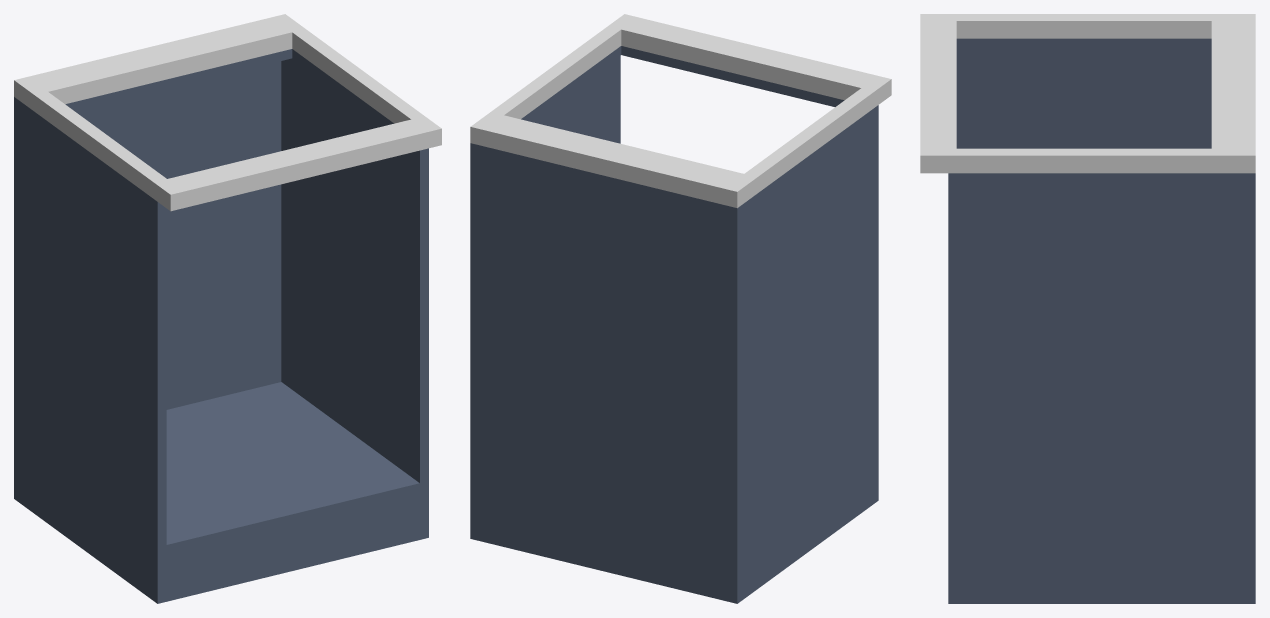
Rendered from Kitchen1_C4_05.fbx.
3 renders of one model, left to right at view 1: azimuth 30°, elevation 25°; view 2: azimuth 150°, elevation 25°; view 3: azimuth 270°, elevation 25°, orthographic. The views are drawn at different scales.
Parts seen in each view (by area): view 1: Kitchen1_C4_05; view 2: Kitchen1_C4_05; view 3: Kitchen1_C4_05.
Boxes of the visible parts, x1,y1,x2,y2 form: Kitchen1_C4_05: [14, 14, 441, 603]; Kitchen1_C4_05: [470, 14, 891, 603]; Kitchen1_C4_05: [920, 14, 1255, 603].
Size of the model in its own units: 60 by 88.5 by 60.
